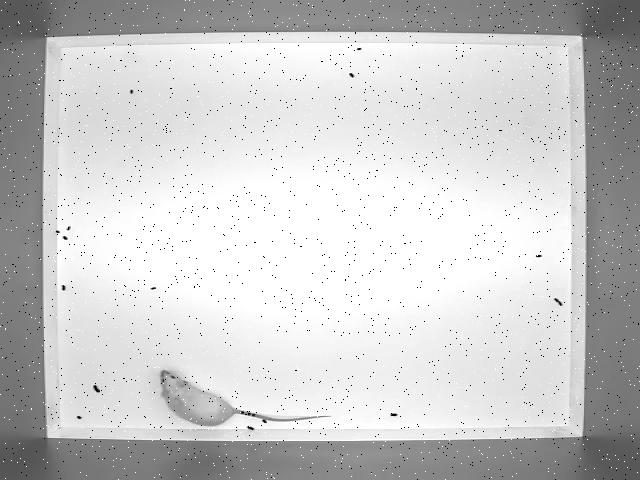Tikus: (159, 370, 331, 426)
